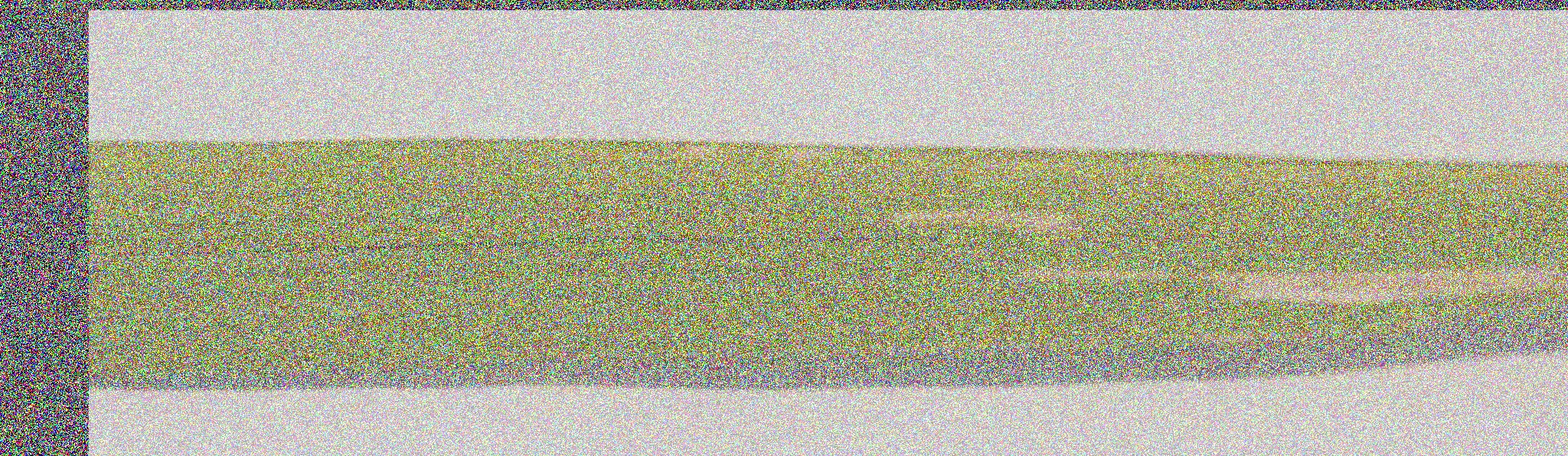Leaf_Blast: (529, 121, 1568, 229), (983, 237, 1568, 347)
